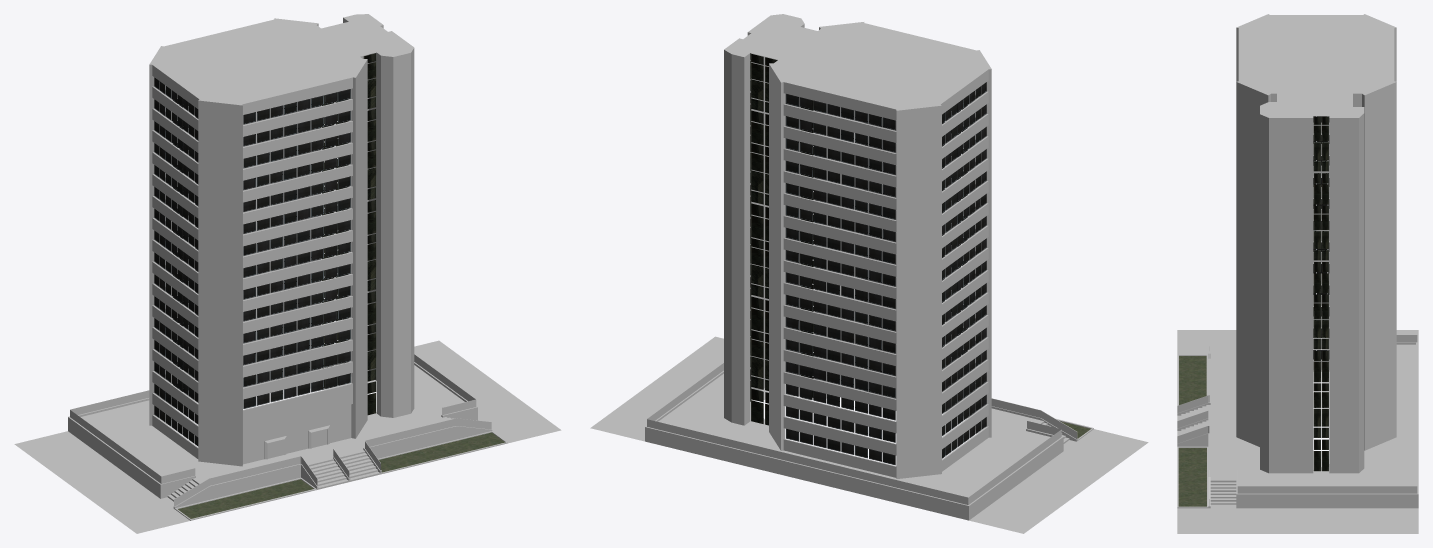
3 renders of one model, left to right at view 1: azimuth 30°, elevation 25°; view 2: azimuth 150°, elevation 25°; view 3: azimuth 270°, elevation 25°, orthographic. The views are drawn at different scales.
Visible parts, largest first — view 1: Building-P10, BC-P10; view 2: Building-P10, BC-P10; view 3: Building-P10, BC-P10.
Part boxes in pixels (x1=…): Building-P10: x1=149, y1=14, x2=414, y2=466; BC-P10: x1=14, y1=340, x2=561, y2=533; Building-P10: x1=724, y1=14, x2=991, y2=478; BC-P10: x1=590, y1=336, x2=1148, y2=533; Building-P10: x1=1236, y1=14, x2=1396, y2=473; BC-P10: x1=1177, y1=330, x2=1418, y2=533.
Size of what is drawn, in the model's own units: 72 by 60.46 by 36.
